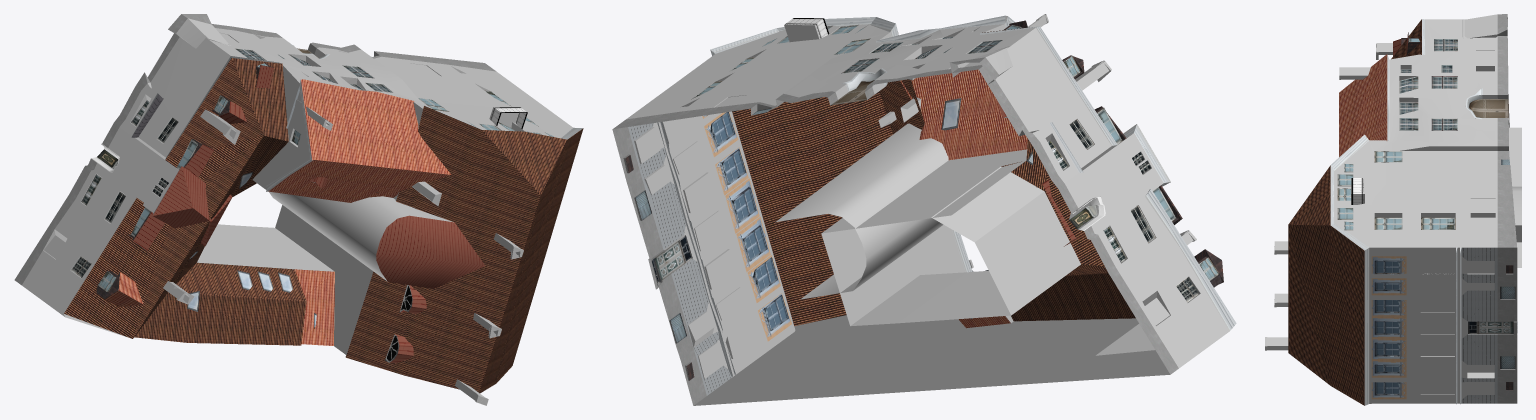
The model's file is Lai_45-origo.obj.
The picture shows the model from 3 angles, left to right: view 1: azimuth 30°, elevation 25°; view 2: azimuth 150°, elevation 25°; view 3: azimuth 270°, elevation 25°; orthographic projection. The views are drawn at different scales.
Parts seen in each view (by area): view 1: Lai_45; view 2: Lai_45; view 3: Lai_45.
Part boxes in pixels (bbox=[...]): Lai_45: bbox=[14, 14, 583, 405]; Lai_45: bbox=[612, 14, 1236, 405]; Lai_45: bbox=[1265, 14, 1521, 405].
Bounding box in the file's own units: 41.5 × 28.5 × 22.75.
